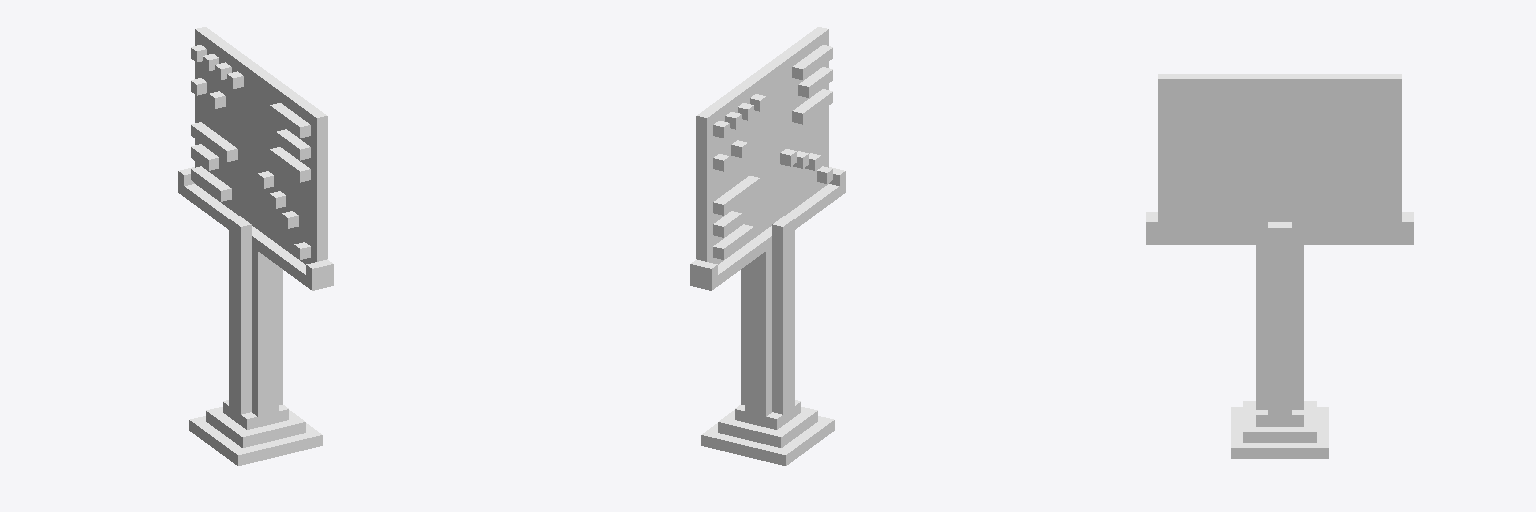
File: Uprav_cantre-1.obj
3 views of the same model, side by side, from view 1: azimuth 30°, elevation 25°; view 2: azimuth 150°, elevation 25°; view 3: azimuth 270°, elevation 25° (orthographic).
Parts seen in each view (by area): view 1: object 1; view 2: object 1; view 3: object 1.
Boxes of the visible parts, <box> form: object 1: <box>178,27,333,465</box>; object 1: <box>690,27,845,465</box>; object 1: <box>1146,74,1413,458</box>.
Size of the model in its own units: 0.8 by 3.3 by 2.2.